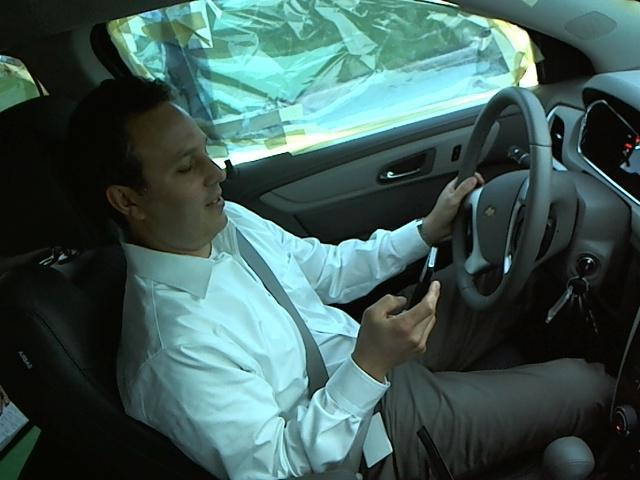PhoneUse: (384, 240, 446, 331)
